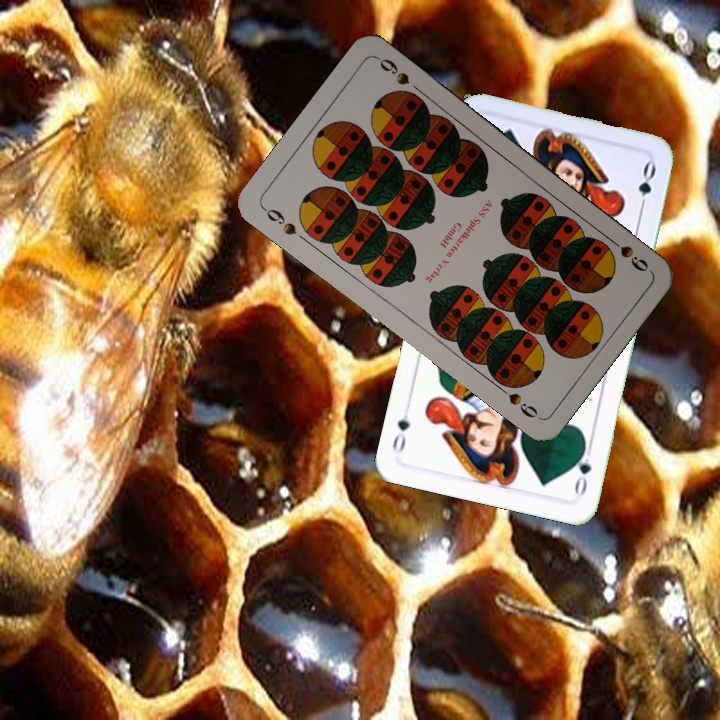GO: (570, 440, 595, 500)
S9: (602, 231, 651, 275), (259, 203, 299, 238)
